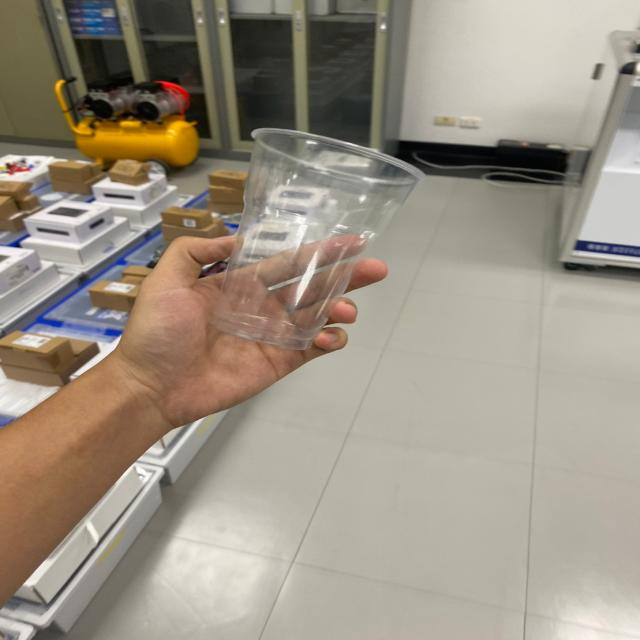glass: (212, 124, 430, 356)
